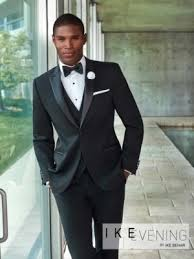F_M_suit jacket: (27, 54, 147, 190)
